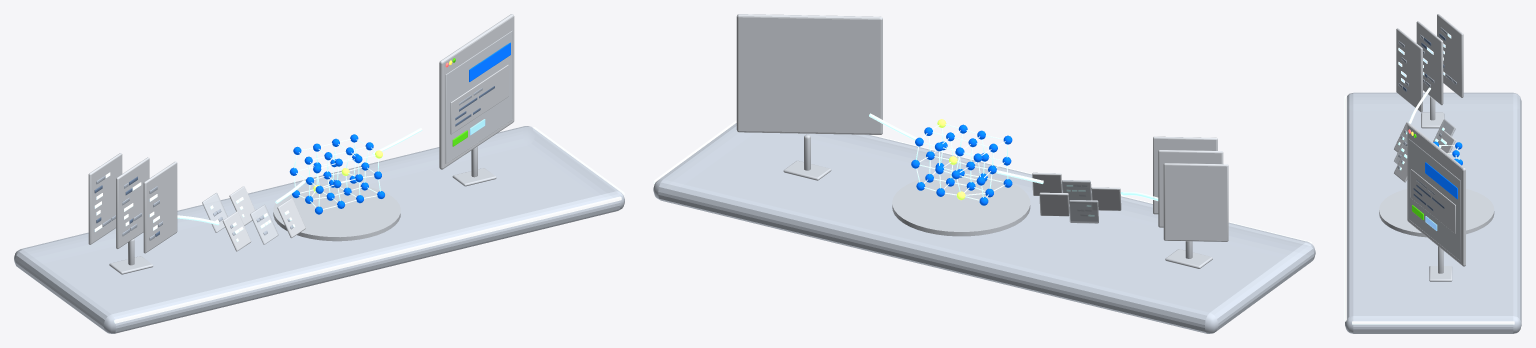
File: project-rag-assistant.glb
The picture shows the model from 3 angles, left to right: view 1: azimuth 30°, elevation 25°; view 2: azimuth 150°, elevation 25°; view 3: azimuth 270°, elevation 25°; orthographic projection. The views are drawn at different scales.
Visible parts, largest first — view 1: Base, Answer, Documents, VectorIndex, Chunks, DataPaths; view 2: Base, Answer, VectorIndex, Documents, Chunks, DataPaths; view 3: Base, Answer, Documents, VectorIndex, Chunks.
Part boxes in pixels (box(x1,y1,x2,y2)): Base: box(14, 126, 624, 333); Answer: box(439, 14, 514, 186); Documents: box(88, 153, 177, 274); VectorIndex: box(273, 134, 400, 241); Chunks: box(202, 186, 305, 251); DataPaths: box(177, 128, 422, 225); Base: box(653, 120, 1315, 333); Answer: box(736, 14, 882, 180); VectorIndex: box(892, 119, 1030, 236); Documents: box(1153, 136, 1228, 268); Chunks: box(1032, 172, 1121, 223); DataPaths: box(869, 113, 1158, 200); Base: box(1344, 92, 1521, 333); Answer: box(1407, 123, 1465, 281); Documents: box(1396, 14, 1463, 128); VectorIndex: box(1379, 141, 1494, 237); Chunks: box(1394, 119, 1455, 182).
Bounding box in the file's own units: 8.01 × 2.38 × 2.61.
